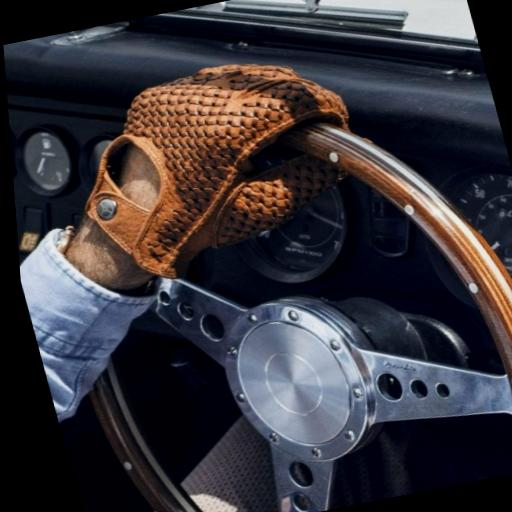Hands-on-the-Wheel: (30, 20, 421, 302)
